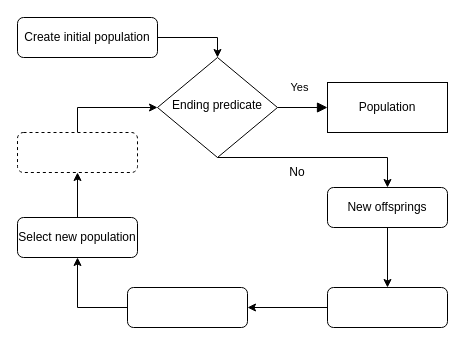
This 465x345 diagram has some shape labels left out. The shapes that lost their labels are listed below. From the top down, each one's centre as x and y in pixels, then its label:
At (77,152): "Report current state".
At (187,307): "Score".
At (387,307): "Mutations".
